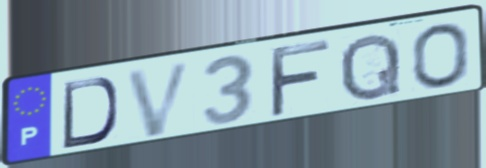3: (201, 52, 260, 128)
D: (59, 75, 121, 151)
F: (267, 38, 334, 121)
O: (409, 21, 472, 90)
Q: (337, 31, 404, 104)
V: (123, 57, 197, 140)
